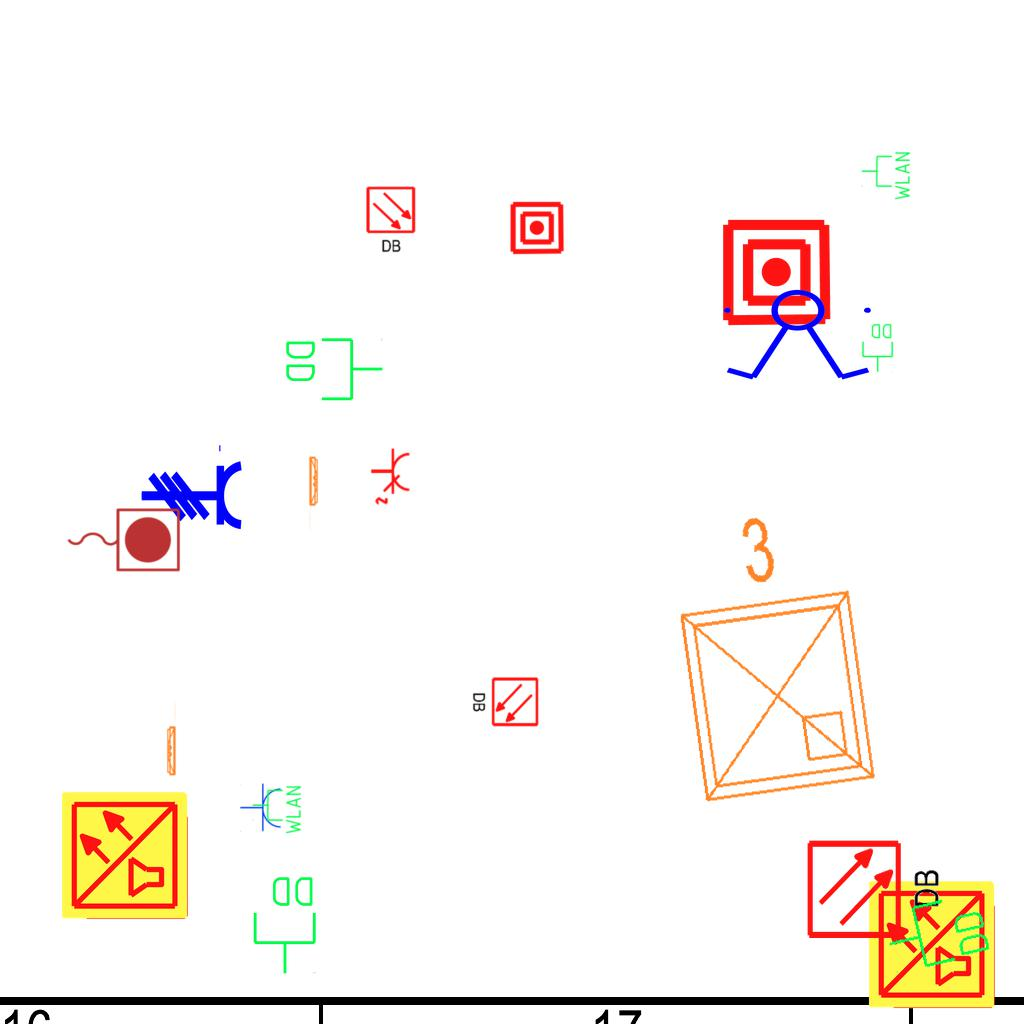CEE_Drehstrom_Steckdose_16_32_A: (140, 442, 244, 532)
DB_Melder_in_Doppelboden_mit_Revisionsoeffnung_mind_40_x_40_cm: (800, 831, 949, 945), (468, 674, 542, 731), (363, 183, 420, 257)
Datenanschluss_zweifach: (879, 888, 996, 979), (251, 873, 320, 976), (282, 334, 385, 403), (861, 322, 895, 373)
Einbaudownlights_LED_Konferenzraeume: (644, 492, 892, 820)
NAM-Nichtautomatischer_Melder: (720, 216, 833, 329), (509, 200, 565, 256)
OKW_Multisensormelder_(Kombination_optischer_Rauch-Kahlenmonoxid_Waerme-Melder): (59, 789, 191, 921), (866, 878, 998, 1010)
Schukosteckdose_einfach: (240, 783, 283, 833)
Schukosteckdose_mehrfach: (368, 446, 412, 506)
Serienschalter: (715, 288, 883, 384)
Sicherheitsleuchte_Wandeinbau: (165, 699, 177, 778), (308, 454, 320, 533)
WLAN: (860, 150, 912, 202), (251, 784, 303, 836)
Zugtaster: (62, 503, 184, 575)
